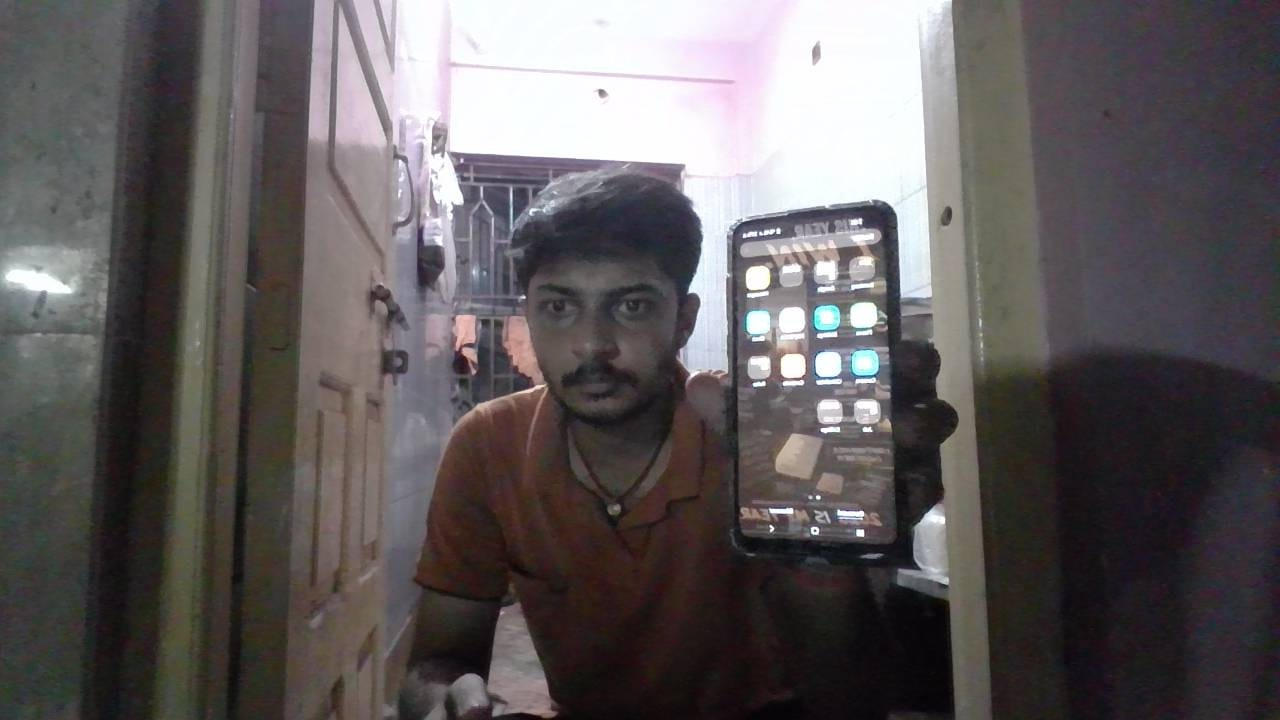red_box: (441, 405, 592, 549), (632, 422, 720, 522), (416, 484, 460, 585)
